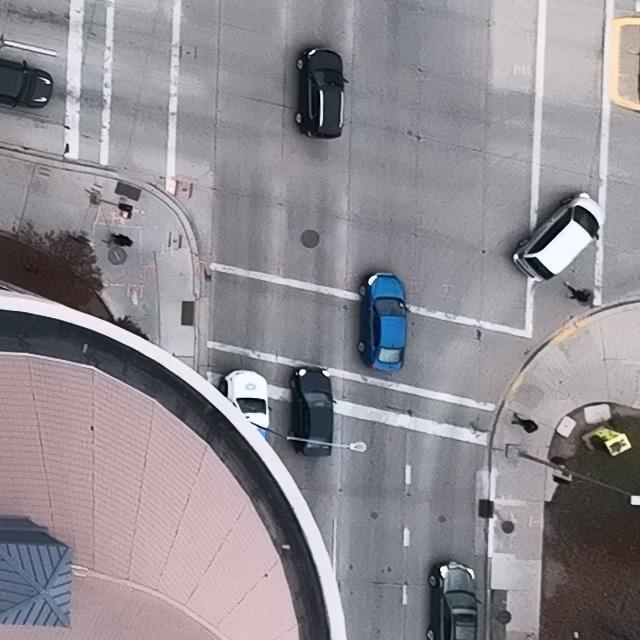car: (514, 192, 606, 281), (357, 272, 409, 371), (294, 48, 349, 140), (288, 366, 337, 456), (427, 561, 482, 640), (219, 369, 272, 438), (0, 56, 53, 108)
